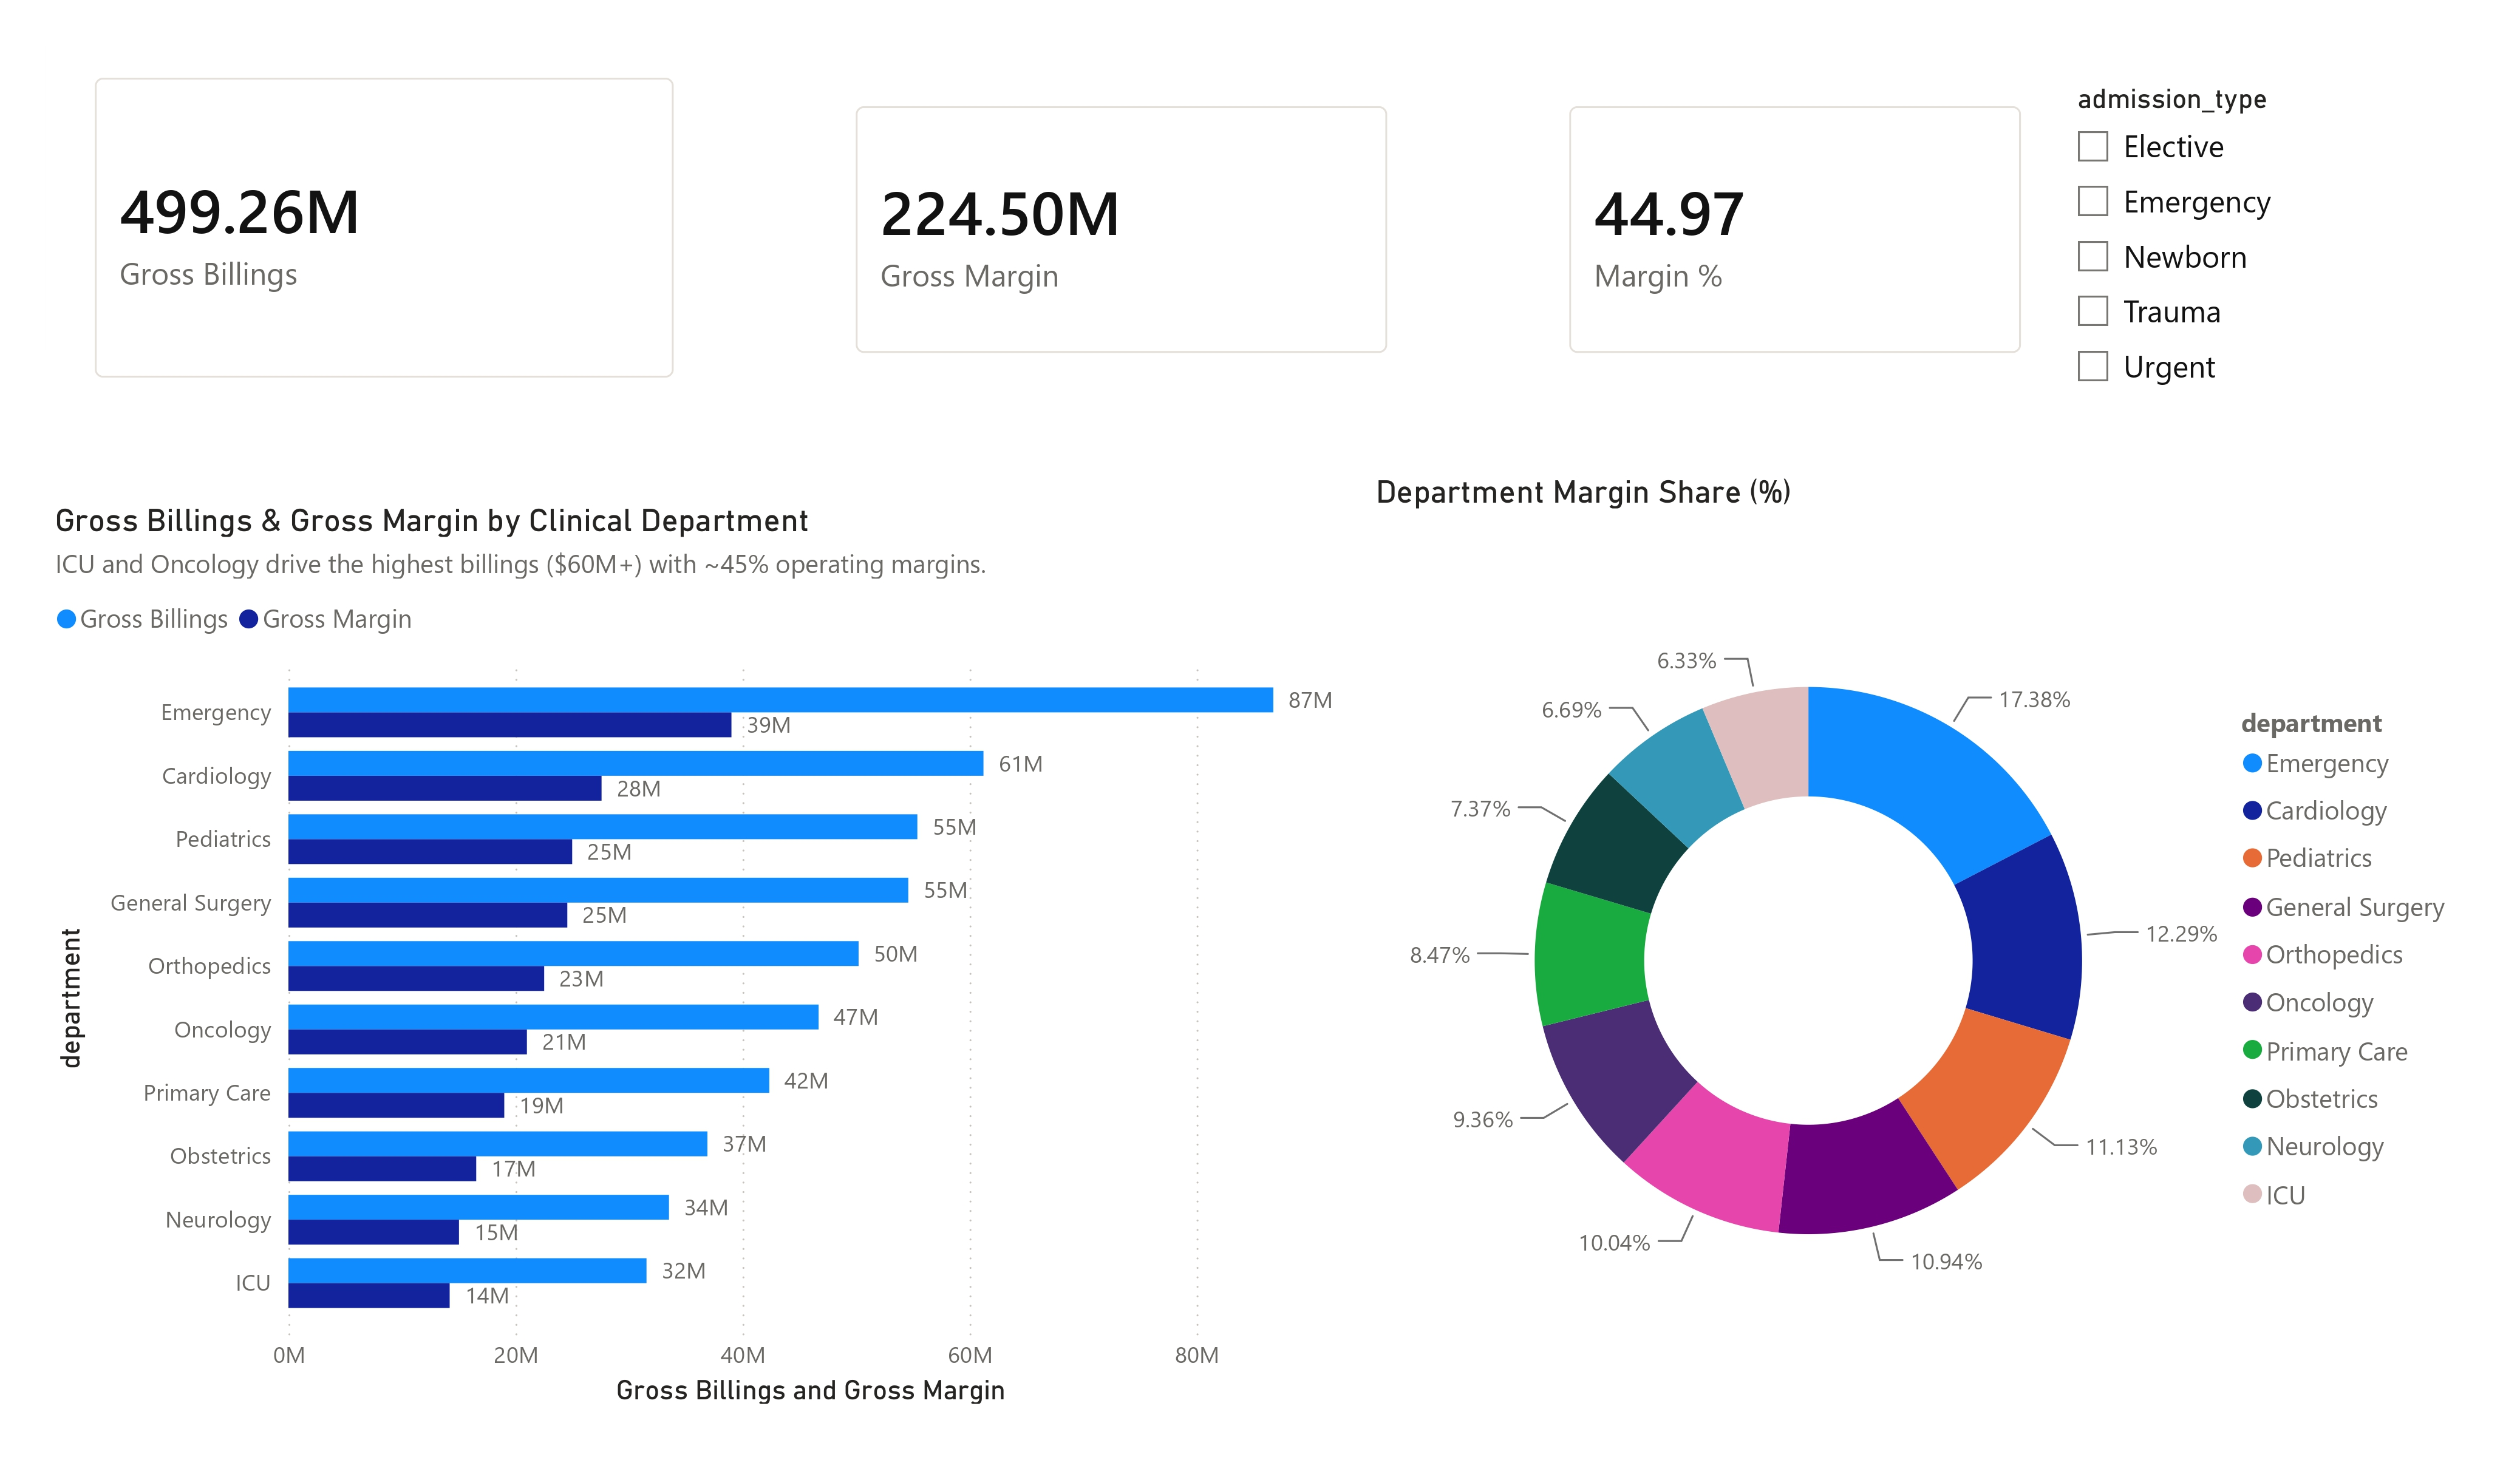

What the dashboard file says about the page in this screenshot:
{"tool":"powerbi","page":{"name":"Clinical Quality","canvas":[1280,720],"ordinal":1},"visuals":[{"type":"cardVisual","fields":{"Data":["admissions_features.Gross Billings"]},"box":[9.3,0,338.9,191.8],"z":0},{"type":"cardVisual","fields":{"Data":["admissions_features.Gross Margin"]},"box":[409.7,14.9,314.7,163.9],"z":1000},{"type":"cardVisual","fields":{"Data":["admissions_features.Margin %"]},"box":[785.9,14.9,271.9,163.9],"z":2000},{"type":"clusteredBarChart","title":"Gross Billings & Gross Margin by Clinical Department","fields":{"Category":["admissions_features.department"],"Y":["admissions_features.Gross Billings","admissions_features.Gross Margin"]},"box":[0,240.2,696.5,480.5],"z":3000},{"type":"donutChart","title":" Department Margin Share (%)","fields":{"Category":["admissions_features.department"],"Y":["admissions_features.Gross Margin"]},"box":[696.5,225.3,582.9,495.4],"z":4000},{"type":"slicer","fields":{"Values":["admissions_features.admission_type"]},"box":[1057.8,14.9,221.6,176.9],"z":5000}]}

Visuals, with their boxes on the page's 1280x720 design canvas (x1, y1, x2, y2). These are canvas units, not pixel positions in the 2520x1457 screenshot, which may show the page scaled, cropped or inside an application window:
cardVisual - admissions_features.Gross Billings: <box>9,0,348,192</box>
cardVisual - admissions_features.Gross Margin: <box>410,15,724,179</box>
cardVisual - admissions_features.Margin %: <box>786,15,1058,179</box>
"Gross Billings & Gross Margin by Clinical Department" clusteredBarChart: <box>0,240,696,721</box>
" Department Margin Share (%)" donutChart: <box>696,225,1279,721</box>
slicer - admissions_features.admission_type: <box>1058,15,1279,192</box>
